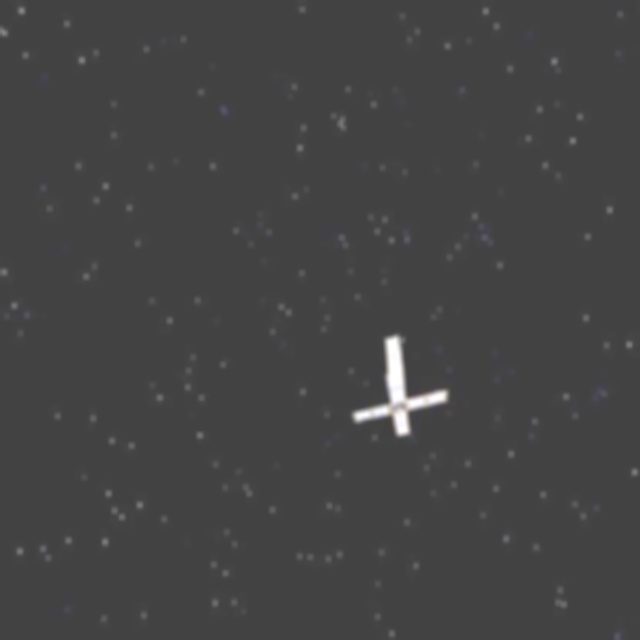medium_debris: (342, 320, 451, 449)
